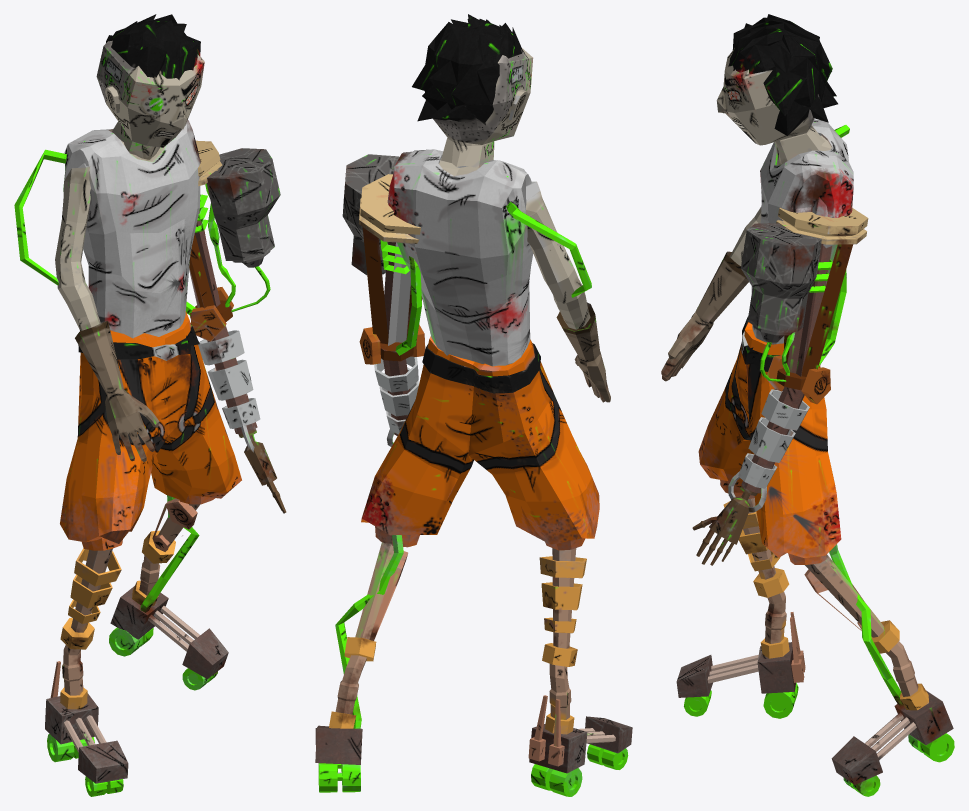
File: CyborgFINALAnimation_000166.obj
3 renders of one model, left to right at view 1: azimuth 30°, elevation 25°; view 2: azimuth 150°, elevation 25°; view 3: azimuth 270°, elevation 25°, orthographic. The views are drawn at different scales.
Visible parts, largest first — view 1: CyborgMesh_Cube.002; view 2: CyborgMesh_Cube.002; view 3: CyborgMesh_Cube.002.
Part boxes in pixels (x1,y1,x2,y2): CyborgMesh_Cube.002: (14,14,286,796); CyborgMesh_Cube.002: (315,14,632,796); CyborgMesh_Cube.002: (661,14,954,796).
Bounding box in the file's own units: 3.43 × 9.64 × 3.5.
